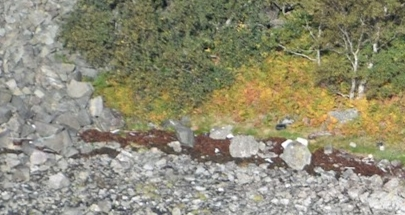scattered_barrel: (270, 115, 311, 148)
